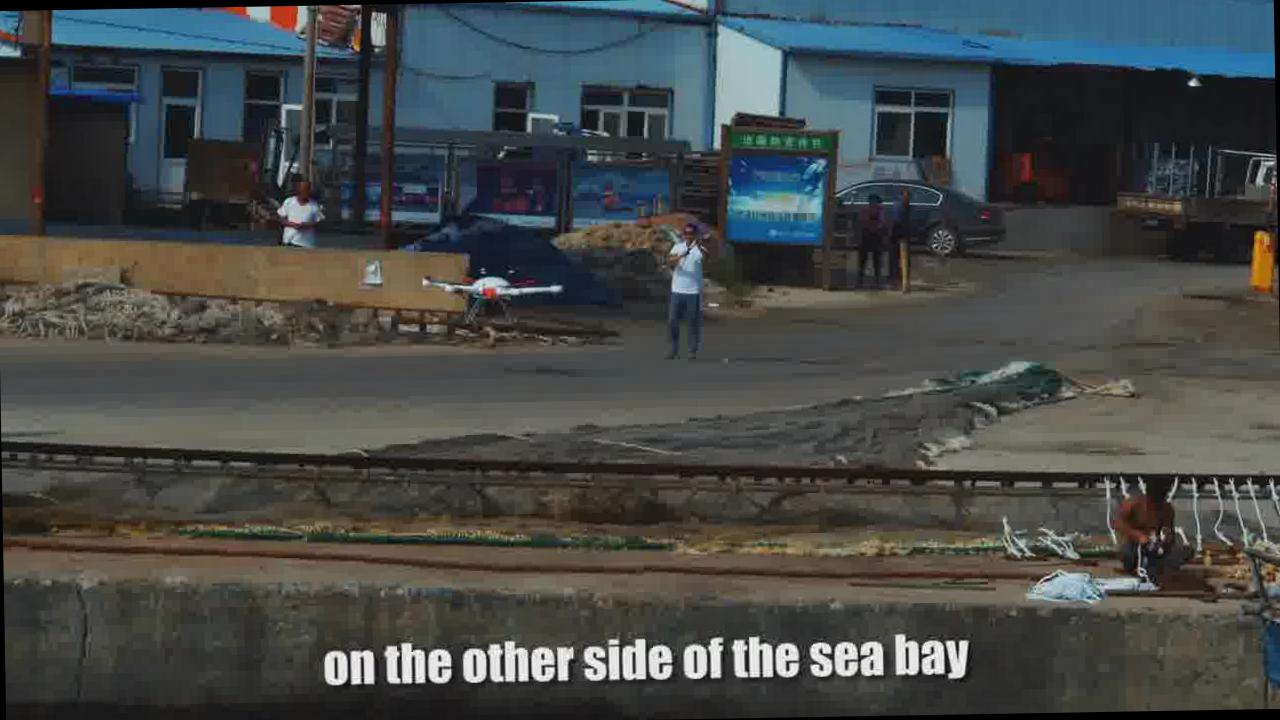drone: (417, 256, 563, 316)
